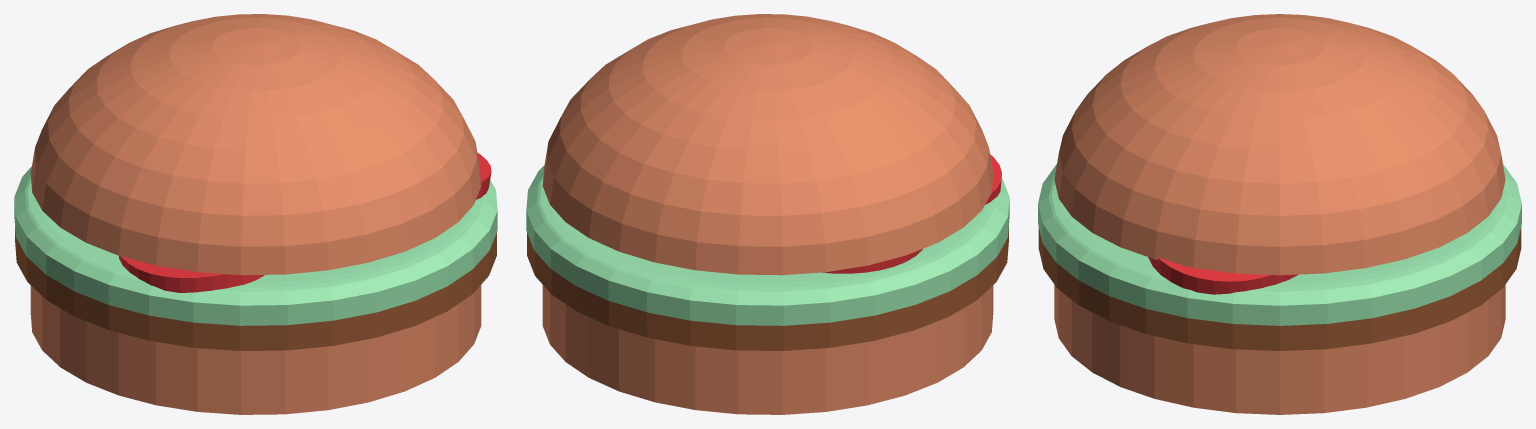
File: lanchaio.fbx
3 renders of one model, left to right at view 1: azimuth 30°, elevation 25°; view 2: azimuth 150°, elevation 25°; view 3: azimuth 270°, elevation 25°, orthographic.
Parts seen in each view (by area): view 1: Sphere, Cylinder, Cylinder.002, Cylinder.001, Cylinder.006; view 2: Sphere, Cylinder, Cylinder.002, Cylinder.001, Cylinder.007; view 3: Sphere, Cylinder, Cylinder.002, Cylinder.001, Cylinder.005.
Part boxes in pixels (x1,y1,x2,y2): Sphere: [30, 14, 481, 275]; Cylinder: [30, 285, 481, 414]; Cylinder.002: [14, 166, 497, 325]; Cylinder.001: [15, 227, 496, 350]; Cylinder.006: [119, 256, 264, 292]; Sphere: [542, 14, 993, 275]; Cylinder: [542, 285, 993, 414]; Cylinder.002: [526, 165, 1009, 325]; Cylinder.001: [527, 227, 1008, 350]; Cylinder.007: [822, 249, 922, 273]; Sphere: [1054, 14, 1505, 275]; Cylinder: [1054, 285, 1505, 414]; Cylinder.002: [1038, 164, 1521, 325]; Cylinder.001: [1038, 227, 1521, 350]; Cylinder.005: [1148, 257, 1297, 294].
Bounding box in the file's own units: 215 × 135 × 215.
